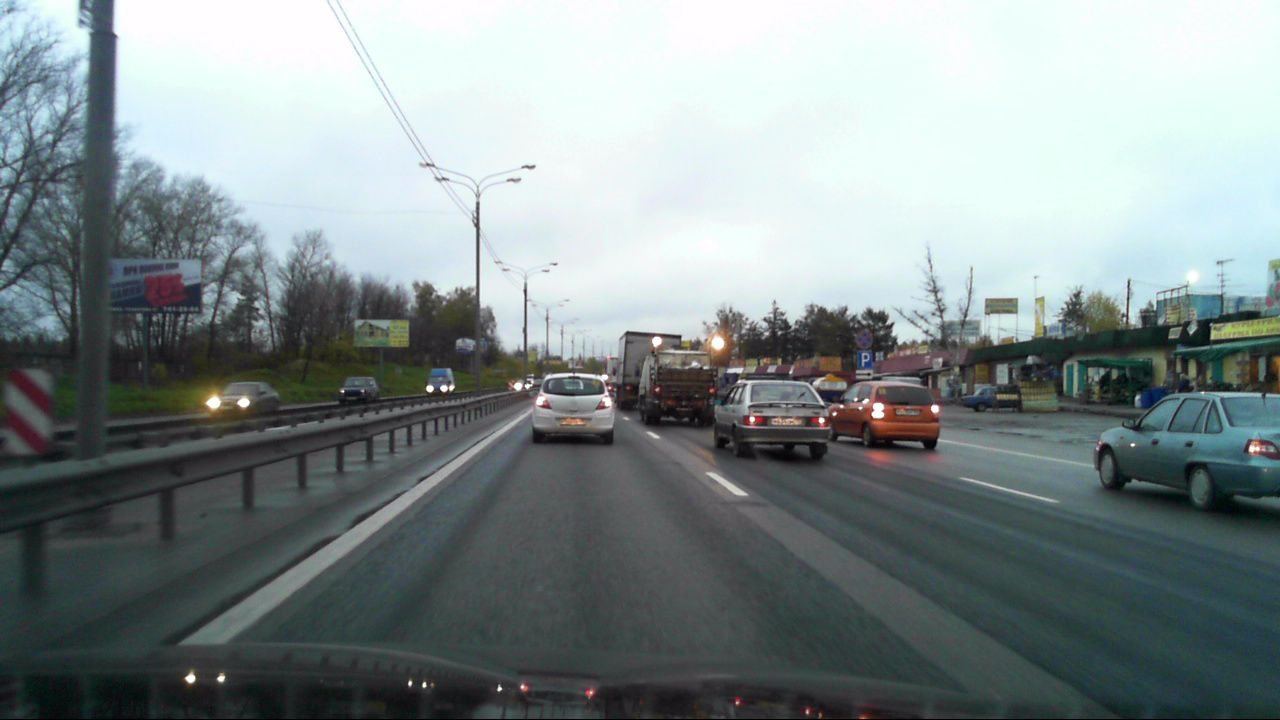No Parking: (855, 330, 873, 348)
